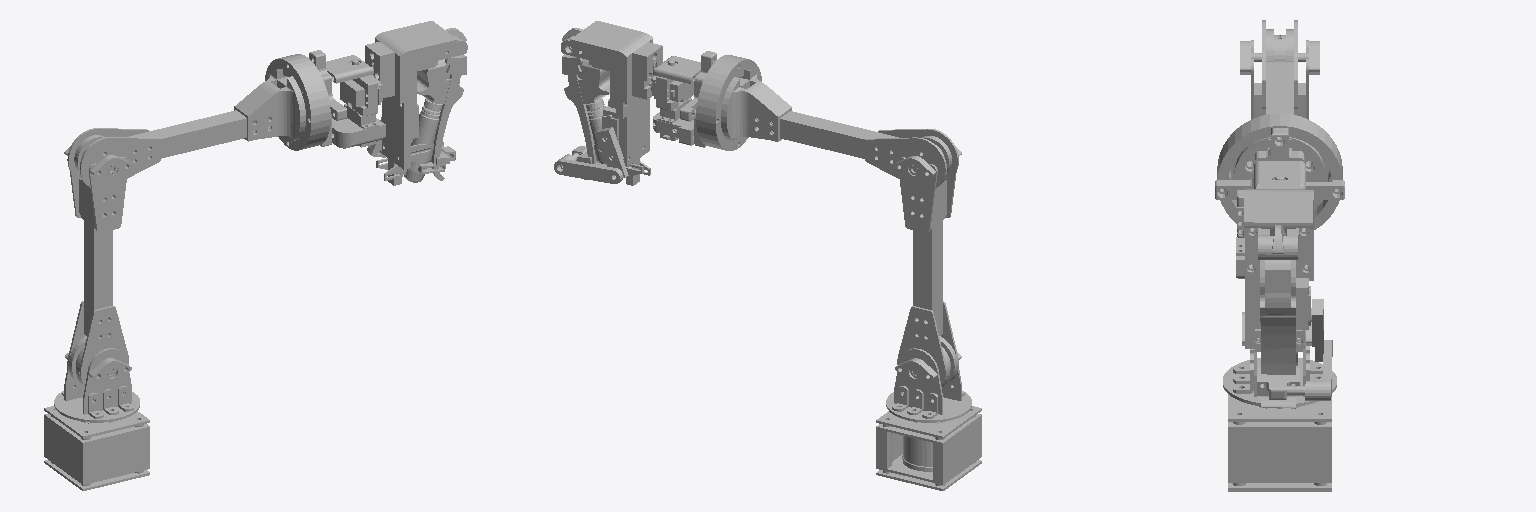
The robot description file, URDF, robot "URDF_ROBOT_ARM":
<?xml version="1.0" encoding="utf-8"?>
<!-- This URDF was automatically created by SolidWorks to URDF Exporter! Originally created by [author] ([email redacted]) 
     Commit Version: 1.6.0-4-g7f85cfe  Build Version: 1.6.7995.38578
     For more information, please see http://wiki.ros.org/sw_urdf_exporter -->
<robot
  name="URDF_ROBOT_ARM">
  <link
    name="base_link">
    <inertial>
      <origin
        xyz="-2.3158E-07 -0.0066564 0.035"
        rpy="0 0 0" />
      <mass
        value="1.3468" />
      <inertia
        ixx="0.001167"
        ixy="1.0458E-11"
        ixz="-1.3577E-14"
        iyy="0.001545"
        iyz="-3.1447E-14"
        izz="0.0023418" />
    </inertial>
    <visual>
      <origin
        xyz="0 0 0"
        rpy="0 0 0" />
      <geometry>
        <mesh
          filename="package://URDF_ROBOT_ARM/meshes/base_link.STL" />
      </geometry>
      <material
        name="">
        <color
          rgba="0.75294 0.75294 0.75294 1" />
      </material>
    </visual>
    <collision>
      <origin
        xyz="0 0 0"
        rpy="0 0 0" />
      <geometry>
        <mesh
          filename="package://URDF_ROBOT_ARM/meshes/base_link.STL" />
      </geometry>
    </collision>
  </link>
  <link
    name="Link 1 -  Purple">
    <inertial>
      <origin
        xyz="0.000462671361281153 2.97113903443417E-08 0.0735369702589573"
        rpy="0 0 0" />
      <mass
        value="0.326977300934987" />
      <inertia
        ixx="0.000122131599820774"
        ixy="-1.53922064656832E-11"
        ixz="4.86868759540702E-09"
        iyy="0.000134232410593554"
        iyz="-6.63840686362582E-11"
        izz="0.000116370999393103" />
    </inertial>
    <visual>
      <origin
        xyz="0 0 0"
        rpy="0 0 0" />
      <geometry>
        <mesh
          filename="package://URDF_ROBOT_ARM/meshes/Link 1 -  Purple.STL" />
      </geometry>
      <material
        name="">
        <color
          rgba="0.752941176470588 0.752941176470588 0.752941176470588 1" />
      </material>
    </visual>
    <collision>
      <origin
        xyz="0 0 0"
        rpy="0 0 0" />
      <geometry>
        <mesh
          filename="package://URDF_ROBOT_ARM/meshes/Link 1 -  Purple.STL" />
      </geometry>
    </collision>
  </link>
  <joint
    name="J1"
    type="revolute">
    <origin
      xyz="0 0 0.0025"
      rpy="0 0 0" />
    <parent
      link="base_link" />
    <child
      link="Link 1 -  Purple" />
    <axis
      xyz="0 0 1" />
    <limit
      lower="3.14"
      upper="-3.14"
      effort="10"
      velocity="100" />
  </joint>
  <link
    name="Link 2 - Orange ">
    <inertial>
      <origin
        xyz="1.47413225523596E-05 0.11720401679421 2.52962884387309E-08"
        rpy="0 0 0" />
      <mass
        value="0.523409325877751" />
      <inertia
        ixx="0.000974484270929211"
        ixy="-8.37566402062504E-09"
        ixz="-3.10160943711967E-11"
        iyy="0.000101160481967352"
        iyz="3.77688071036049E-11"
        izz="0.00100340632009345" />
    </inertial>
    <visual>
      <origin
        xyz="0 0 0"
        rpy="0 0 0" />
      <geometry>
        <mesh
          filename="package://URDF_ROBOT_ARM/meshes/Link 2 - Orange .STL" />
      </geometry>
      <material
        name="">
        <color
          rgba="0.752941176470588 0.752941176470588 0.752941176470588 1" />
      </material>
    </visual>
    <collision>
      <origin
        xyz="0 0 0"
        rpy="0 0 0" />
      <geometry>
        <mesh
          filename="package://URDF_ROBOT_ARM/meshes/Link 2 - Orange .STL" />
      </geometry>
    </collision>
  </link>
  <joint
    name="J2"
    type="revolute">
    <origin
      xyz="0.00137767899664845 0 0.132999999999991"
      rpy="1.5707963267949 0 0" />
    <parent
      link="Link 1 -  Purple" />
    <child
      link="Link 2 - Orange " />
    <axis
      xyz="0 0 -1" />
    <limit
      lower="3.14"
      upper="-3.14"
      effort="10"
      velocity="100" />
  </joint>
  <link
    name="Link 3 - Pink ">
    <inertial>
      <origin
        xyz="5.57420221092286E-10 0.0969565911680367 9.66062823831185E-09"
        rpy="0 0 0" />
      <mass
        value="0.387509421172533" />
      <inertia
        ixx="0.000934919014251265"
        ixy="-7.24932450655251E-10"
        ixz="1.24818603260314E-13"
        iyy="7.59283381556646E-05"
        iyz="2.46976422228448E-12"
        izz="0.000943393660393925" />
    </inertial>
    <visual>
      <origin
        xyz="0 0 0"
        rpy="0 0 0" />
      <geometry>
        <mesh
          filename="package://URDF_ROBOT_ARM/meshes/Link 3 - Pink .STL" />
      </geometry>
      <material
        name="">
        <color
          rgba="0.752941176470588 0.752941176470588 0.752941176470588 1" />
      </material>
    </visual>
    <collision>
      <origin
        xyz="0 0 0"
        rpy="0 0 0" />
      <geometry>
        <mesh
          filename="package://URDF_ROBOT_ARM/meshes/Link 3 - Pink .STL" />
      </geometry>
    </collision>
  </link>
  <joint
    name="J3"
    type="revolute">
    <origin
      xyz="0.000142386346877809 0.260037857840369 0"
      rpy="0 0 -1.57079632679489" />
    <parent
      link="Link 2 - Orange " />
    <child
      link="Link 3 - Pink " />
    <axis
      xyz="0 0 -1" />
    <limit
      lower="0"
      upper="0"
      effort="0"
      velocity="0" />
  </joint>
  <link
    name="Link 4 - Green">
    <inertial>
      <origin
        xyz="0.00321280028173598 -0.000975434404262021 -0.0684119916902999"
        rpy="0 0 0" />
      <mass
        value="0.861410776239797" />
      <inertia
        ixx="0.000529580860538517"
        ixy="-4.34195106658219E-07"
        ixz="-7.76136044776842E-07"
        iyy="0.000534777465140237"
        iyz="3.27540024050543E-06"
        izz="0.000909169298436319" />
    </inertial>
    <visual>
      <origin
        xyz="0 0 0"
        rpy="0 0 0" />
      <geometry>
        <mesh
          filename="package://URDF_ROBOT_ARM/meshes/Link 4 - Green.STL" />
      </geometry>
      <material
        name="">
        <color
          rgba="0.752941176470588 0.752941176470588 0.752941176470588 1" />
      </material>
    </visual>
    <collision>
      <origin
        xyz="0 0 0"
        rpy="0 0 0" />
      <geometry>
        <mesh
          filename="package://URDF_ROBOT_ARM/meshes/Link 4 - Green.STL" />
      </geometry>
    </collision>
  </link>
  <joint
    name="J4"
    type="revolute">
    <origin
      xyz="-0.0102500000000031 0.343074999999996 0"
      rpy="-1.57079632679489 0 0" />
    <parent
      link="Link 3 - Pink " />
    <child
      link="Link 4 - Green" />
    <axis
      xyz="0 0 -1" />
    <limit
      lower="0"
      upper="0"
      effort="0"
      velocity="0" />
  </joint>
  <link
    name="Link 5 - Yellow ">
    <inertial>
      <origin
        xyz="0.00820226428464959 0.00222235520078462 0.00245206667353493"
        rpy="0 0 0" />
      <mass
        value="0.0844764228819908" />
      <inertia
        ixx="8.41451588534578E-06"
        ixy="3.02785913569913E-08"
        ixz="-2.03021568777724E-08"
        iyy="1.77114033540202E-05"
        iyz="5.29455683515509E-08"
        izz="2.01421651870411E-05" />
    </inertial>
    <visual>
      <origin
        xyz="0 0 0"
        rpy="0 0 0" />
      <geometry>
        <mesh
          filename="package://URDF_ROBOT_ARM/meshes/Link 5 - Yellow .STL" />
      </geometry>
      <material
        name="">
        <color
          rgba="0.752941176470588 0.752941176470588 0.752941176470588 1" />
      </material>
    </visual>
    <collision>
      <origin
        xyz="0 0 0"
        rpy="0 0 0" />
      <geometry>
        <mesh
          filename="package://URDF_ROBOT_ARM/meshes/Link 5 - Yellow .STL" />
      </geometry>
    </collision>
  </link>
  <joint
    name="J5"
    type="revolute">
    <origin
      xyz="0 0 0"
      rpy="1.5707963267949 0.0122210014689393 -1.57079632679489" />
    <parent
      link="Link 4 - Green" />
    <child
      link="Link 5 - Yellow " />
    <axis
      xyz="0 0 -1" />
    <limit
      lower="0"
      upper="0"
      effort="0"
      velocity="0" />
  </joint>
  <link
    name="Link 6 - Magenta">
    <inertial>
      <origin
        xyz="0.033389 0.001235 0.084802"
        rpy="0 0 0" />
      <mass
        value="1.019" />
      <inertia
        ixx="0.00030271"
        ixy="9.4025E-07"
        ixz="7.2515E-05"
        iyy="0.0005829"
        iyz="3.8899E-07"
        izz="0.00054766" />
    </inertial>
    <visual>
      <origin
        xyz="0 0 0"
        rpy="0 0 0" />
      <geometry>
        <mesh
          filename="package://URDF_ROBOT_ARM/meshes/Link 6 - Magenta.STL" />
      </geometry>
      <material
        name="">
        <color
          rgba="0.75294 0.75294 0.75294 1" />
      </material>
    </visual>
    <collision>
      <origin
        xyz="0 0 0"
        rpy="0 0 0" />
      <geometry>
        <mesh
          filename="package://URDF_ROBOT_ARM/meshes/Link 6 - Magenta.STL" />
      </geometry>
    </collision>
  </link>
  <joint
    name="J6"
    type="revolute">
    <origin
      xyz="0 0 0"
      rpy="-1.5708 1.5708 0" />
    <parent
      link="Link 5 - Yellow " />
    <child
      link="Link 6 - Magenta" />
    <axis
      xyz="0 0 -1" />
    <limit
      lower="0"
      upper="0"
      effort="0"
      velocity="0" />
  </joint>
  <link name="spray_tip"/> 
  <joint name="nozzle_offset" type="fixed">
  <origin xyz="0 0 0.142" rpy="0 0 0"/>
    <parent link = "Link 6 - Magenta"/>
    <child link="spray_tip"/>
    <origin xyz="0 0 0.142" rpy="0 0 0"/>
  </joint>
</robot>

--- Render facts (derived) ---
Views: 3 orthographic renders of the robot side by side, from view 1: azimuth 30°, elevation 25°; view 2: azimuth 150°, elevation 25°; view 3: azimuth 270°, elevation 25°.
Model URDF_ROBOT_ARM with 8 links and 7 joints (6 revolute, 1 fixed), rooted at base_link, posed all joints at 0.
Visible links, largest first — view 1: Link 6 - Magenta, Link 4 - Green, Link 2 - Orange, base_link, Link 3 - Pink, Link 1 -  Purple, Link 5 - Yellow; view 2: Link 6 - Magenta, Link 4 - Green, Link 2 - Orange, base_link, Link 3 - Pink, Link 1 -  Purple, Link 5 - Yellow; view 3: Link 6 - Magenta, Link 4 - Green, base_link, Link 3 - Pink, Link 1 -  Purple, Link 2 - Orange.
Link boxes in pixels (x1,y1,x2,y2): Link 6 - Magenta: [365, 21, 467, 185]; Link 4 - Green: [234, 50, 385, 150]; Link 2 - Orange: [64, 146, 132, 386]; base_link: [44, 406, 149, 490]; Link 3 - Pink: [67, 110, 270, 187]; Link 1 -  Purple: [54, 348, 139, 422]; Link 5 - Yellow: [340, 59, 382, 116]; Link 6 - Magenta: [554, 21, 662, 185]; Link 4 - Green: [653, 51, 791, 150]; Link 2 - Orange: [894, 147, 961, 386]; base_link: [876, 406, 981, 490]; Link 3 - Pink: [756, 111, 958, 187]; Link 1 -  Purple: [886, 348, 971, 466]; Link 5 - Yellow: [651, 60, 693, 110]; Link 6 - Magenta: [1244, 180, 1332, 408]; Link 4 - Green: [1215, 113, 1344, 278]; base_link: [1228, 394, 1331, 491]; Link 3 - Pink: [1251, 20, 1308, 114]; Link 1 -  Purple: [1223, 312, 1336, 408]; Link 2 - Orange: [1240, 40, 1319, 365].
Size in the robot's own frame: 0.5395 by 0.113 by 0.4628 metres.
Meshes: 7 distinct files referenced, 7 mesh visuals loaded (7 binary STL).